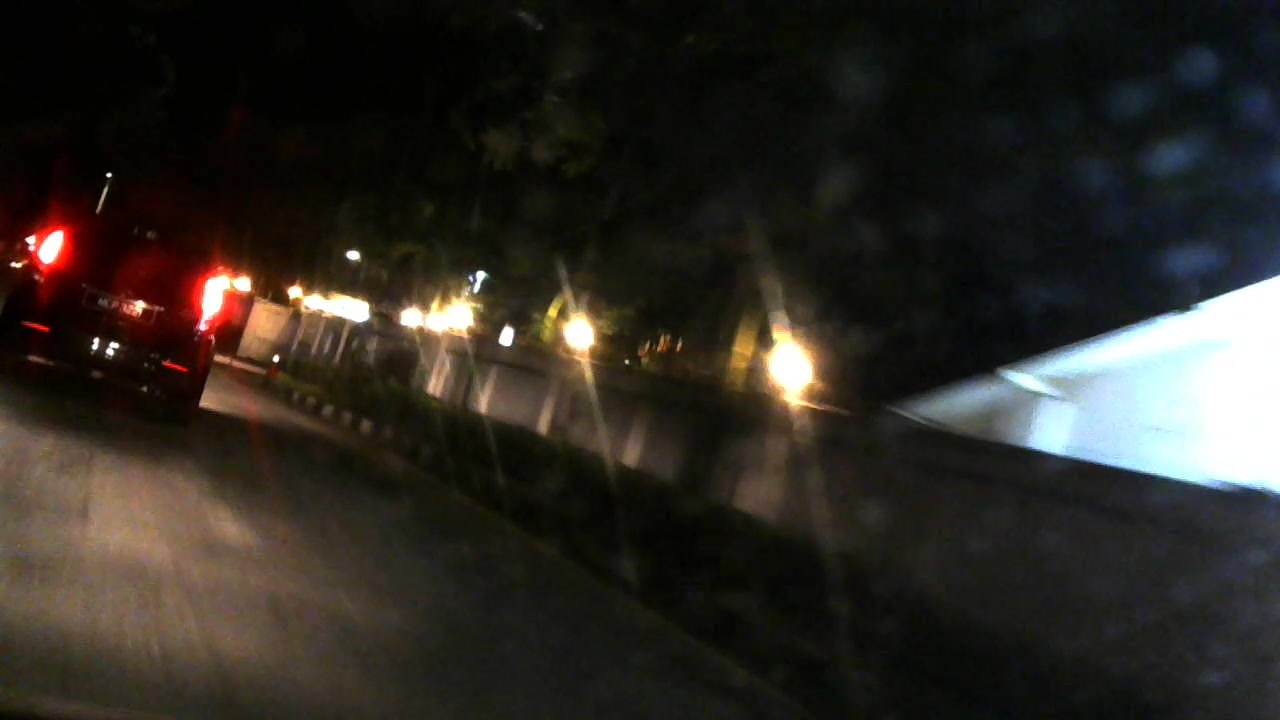Car: (12, 220, 231, 414)
